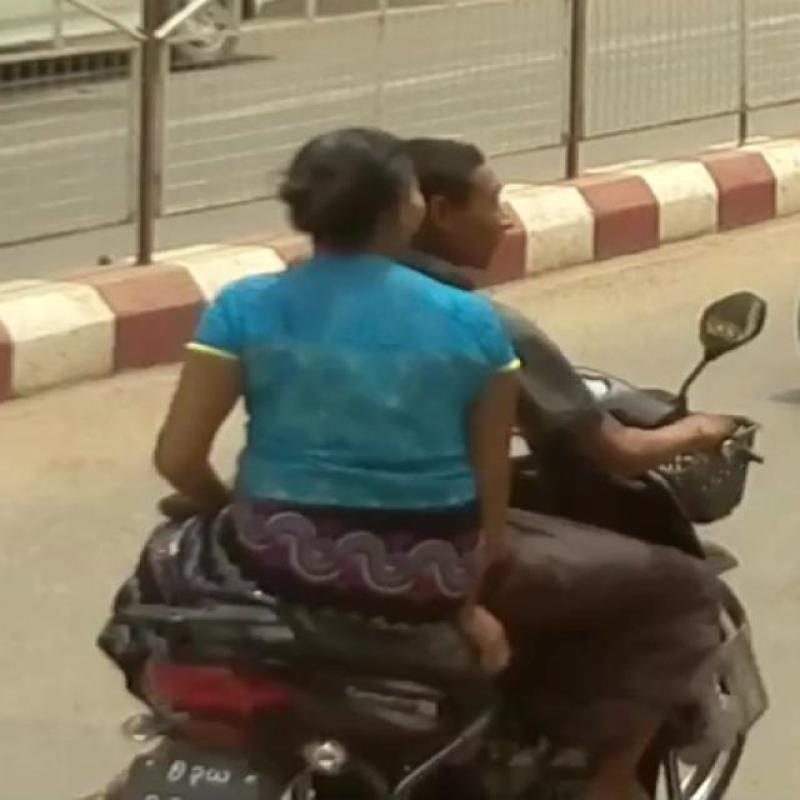nohelmet: (265, 117, 426, 253), (436, 120, 568, 280)
